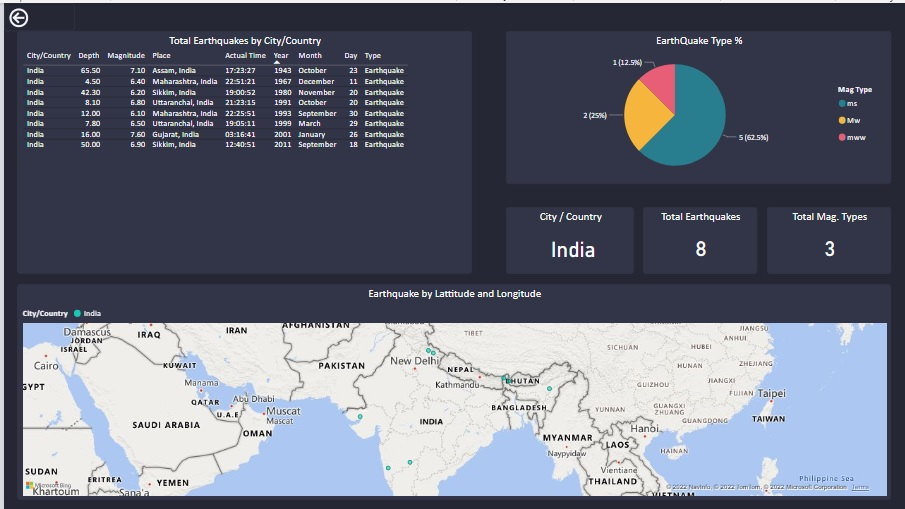

The page's visual inventory and layout, read from the dashboard file:
{"tool":"powerbi","page":{"name":"Details","canvas":[1280,720],"ordinal":1},"visuals":[{"type":"tableEx","title":"Total Earthquakes by City/Country","fields":{"Values":["query.City/Country","query.depth","Sum(query.mag)","query.place","query.ActualTime","query.time.Variation.Date Hierarchy.Year","query.time.Variation.Date Hierarchy.Month","query.time.Variation.Date Hierarchy.Day","query.type"]},"box":[18.4,39.7,644.9,344.4],"z":0},{"type":"actionButton","box":[0,0,100,40],"z":1000},{"type":"pieChart","title":"EarthQuake Type % ","fields":{"Category":["query.magType"],"Y":["CountNonNull(query.City/Country)"]},"box":[711.5,39.7,545.7,216.9],"z":2000},{"type":"map","title":"Earthquake by Lattitude  and Longitude","fields":{"Y":["query.latitude"],"X":["query.longitude"],"Series":["query.City/Country"]},"box":[18.4,398.3,1238.7,306.1],"z":3000},{"type":"card","title":"Total Earthquakes","fields":{"Values":["Count(query.id)"]},"box":[905.7,289.1,161.6,95],"z":4000},{"type":"card","title":"Total Mag. Types","fields":{"Values":["Count(query.magType)"]},"box":[1081.4,289.1,175.7,95],"z":5000},{"type":"card","title":"City / Country","fields":{"Values":["Min(query.City/Country)"]},"box":[711.5,289.1,181.4,95],"z":6000}]}

Visuals, with their boxes on the page's 1280x720 design canvas (x1, y1, x2, y2). These are canvas units, not pixel positions in the 905x509 screenshot, which may show the page scaled, cropped or inside an application window:
"Total Earthquakes by City/Country" tableEx: <bbox>18, 40, 663, 384</bbox>
actionButton: <bbox>0, 0, 100, 40</bbox>
"EarthQuake Type % " pieChart: <bbox>712, 40, 1257, 257</bbox>
"Earthquake by Lattitude  and Longitude" map: <bbox>18, 398, 1257, 704</bbox>
"Total Earthquakes" card: <bbox>906, 289, 1067, 384</bbox>
"Total Mag. Types" card: <bbox>1081, 289, 1257, 384</bbox>
"City / Country" card: <bbox>712, 289, 893, 384</bbox>
